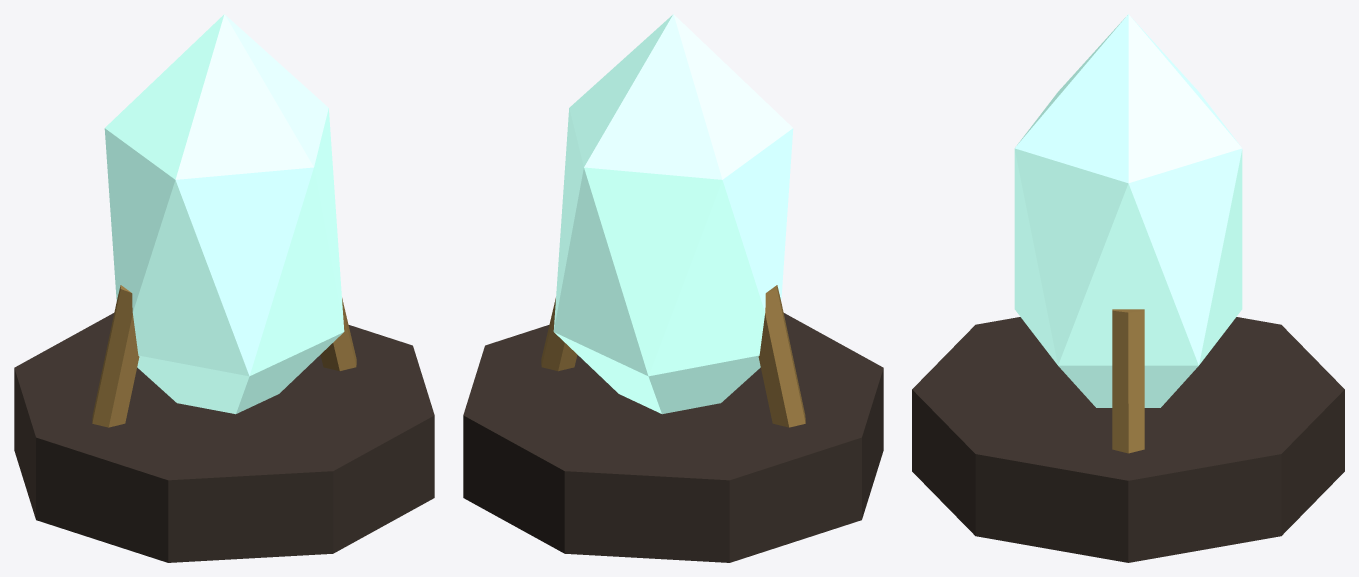
The model's file is artifact.glb.
3 views of the same model, side by side, from view 1: azimuth 30°, elevation 25°; view 2: azimuth 150°, elevation 25°; view 3: azimuth 270°, elevation 25° (orthographic).
Parts seen in each view (by area): view 1: faceted crystal, display plinth, brass claw, brass claw.001; view 2: faceted crystal, display plinth, brass claw, brass claw.001; view 3: display plinth, faceted crystal, brass claw.001.
Part boxes in pixels (x1,y1,x2,y2): faceted crystal: (104, 14, 344, 414); display plinth: (14, 313, 434, 562); brass claw: (92, 285, 139, 427); brass claw.001: (320, 298, 356, 371); faceted crystal: (553, 14, 793, 414); display plinth: (463, 313, 883, 562); brass claw: (758, 285, 805, 427); brass claw.001: (541, 298, 577, 371); display plinth: (912, 317, 1344, 562); faceted crystal: (1014, 14, 1242, 407); brass claw.001: (1112, 309, 1144, 453).
Size of the model in its own units: 0.21 by 0.245 by 0.21.
